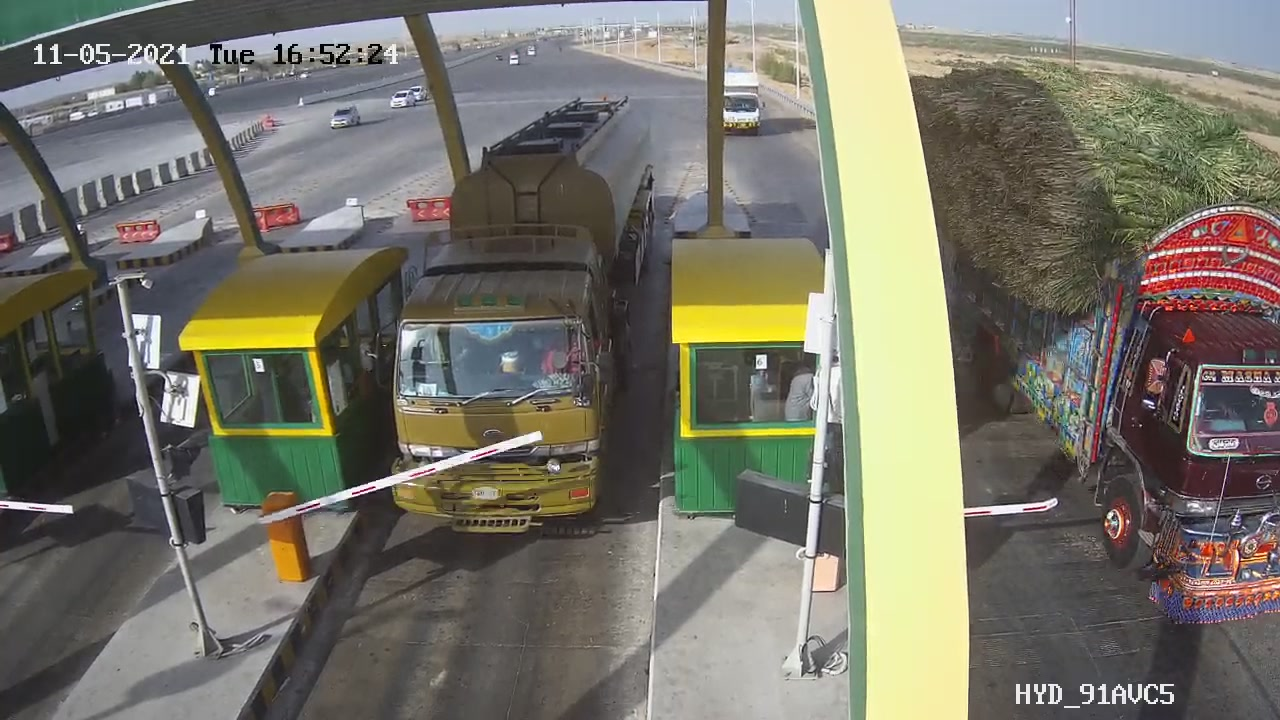F6: (386, 77, 678, 563)
